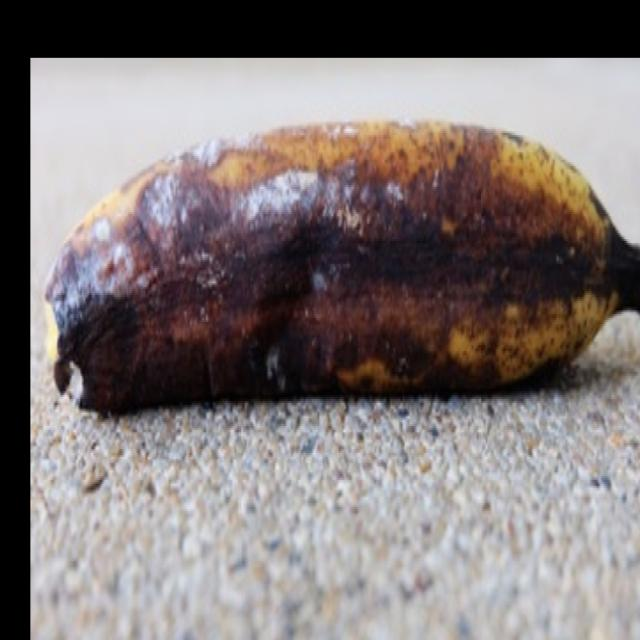Rotten: (33, 96, 640, 442)
